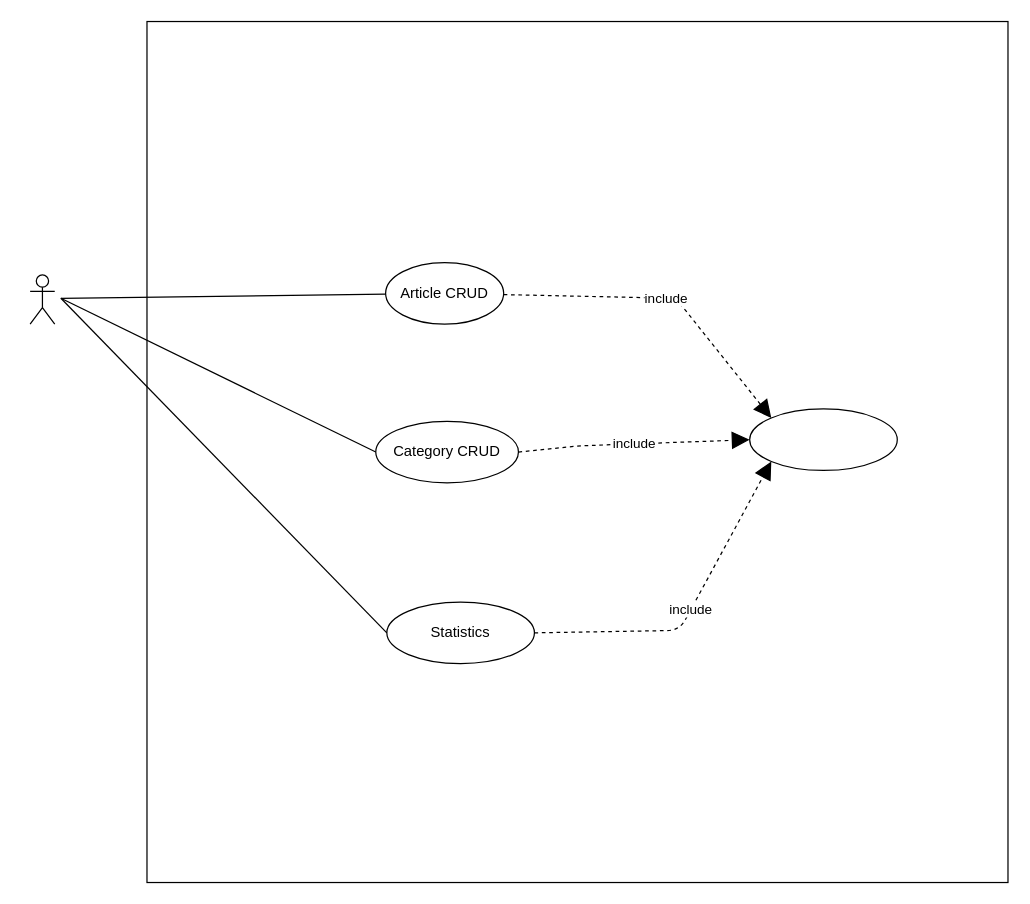
Some shapes in this 1030 by 904 pixel diagram are drawn without their labels. The shapes that lost their labels are listed below. From the top down, each one's centre as x and y in pixels, then its label:
the point at 42,299: Admin
the point at 822,439: Login
